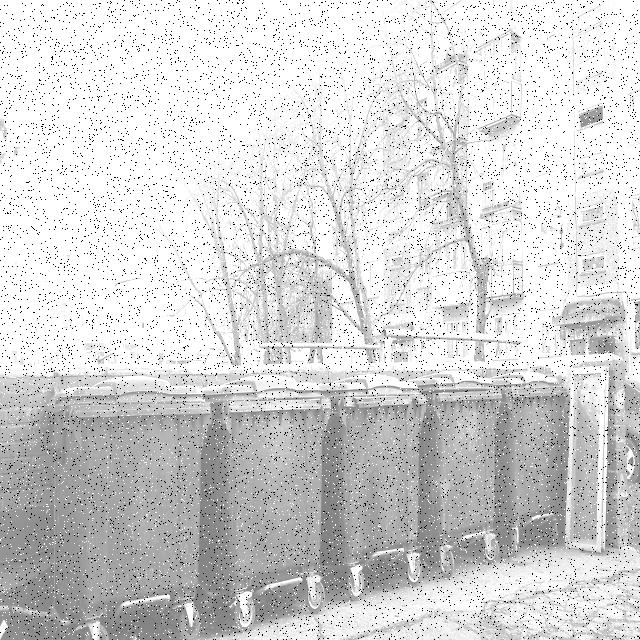Trashcan: (45, 323, 212, 640), (187, 307, 336, 635), (316, 320, 436, 614), (477, 335, 598, 607), (414, 337, 516, 617)
